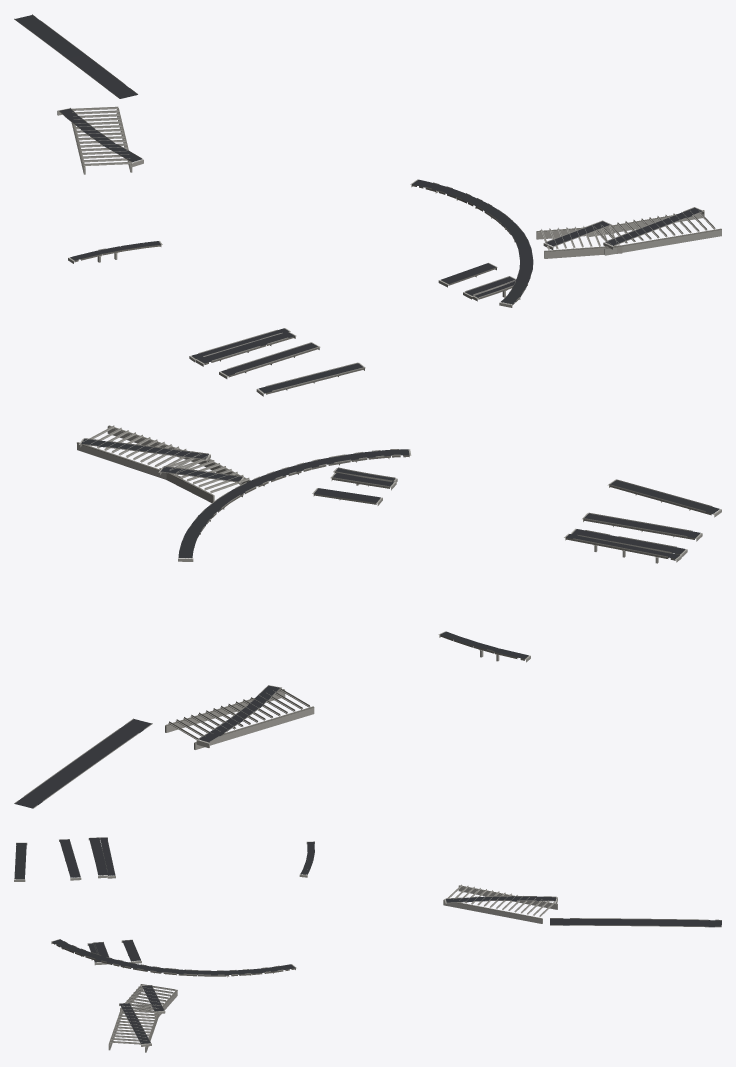
File: br_h27_calgary_trail_1_lod1.gltf
3 views of the same model, one above another, from view 1: azimuth 30°, elevation 25°; view 2: azimuth 150°, elevation 25°; view 3: azimuth 270°, elevation 25° (orthographic). The views are drawn at different scales.
Visible parts, largest first — view 1: br_h27_calgary_trail_1_lod1; view 2: br_h27_calgary_trail_1_lod1; view 3: br_h27_calgary_trail_1_lod1.
Part boxes in pixels (x1,y1,x2,y2): br_h27_calgary_trail_1_lod1: [14, 14, 721, 396]; br_h27_calgary_trail_1_lod1: [14, 425, 721, 808]; br_h27_calgary_trail_1_lod1: [14, 837, 721, 1052].
Size of the model in its own units: 579 by 20.42 by 836.
